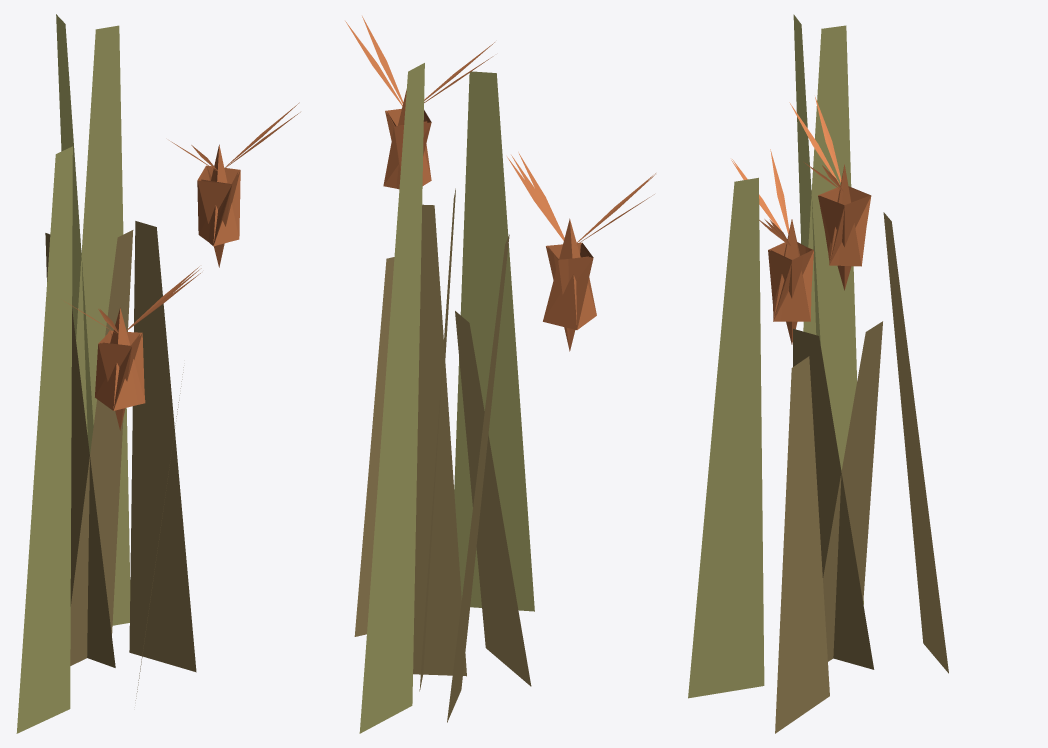
Rendered from nong.su@fruiting__autumn.glb.
3 views of the same model, side by side, from view 1: azimuth 30°, elevation 25°; view 2: azimuth 150°, elevation 25°; view 3: azimuth 270°, elevation 25° (orthographic). The views are drawn at different scales.
Visible parts, largest first — view 1: nong.su@fruiting__autumn; view 2: nong.su@fruiting__autumn; view 3: nong.su@fruiting__autumn.
Part boxes in pixels (x1,y1,x2,y2): nong.su@fruiting__autumn: (16,14,300,733); nong.su@fruiting__autumn: (345,16,655,733); nong.su@fruiting__autumn: (688,14,948,733).
Size of the model in its own units: 0.485 by 0.9887 by 0.4909.
